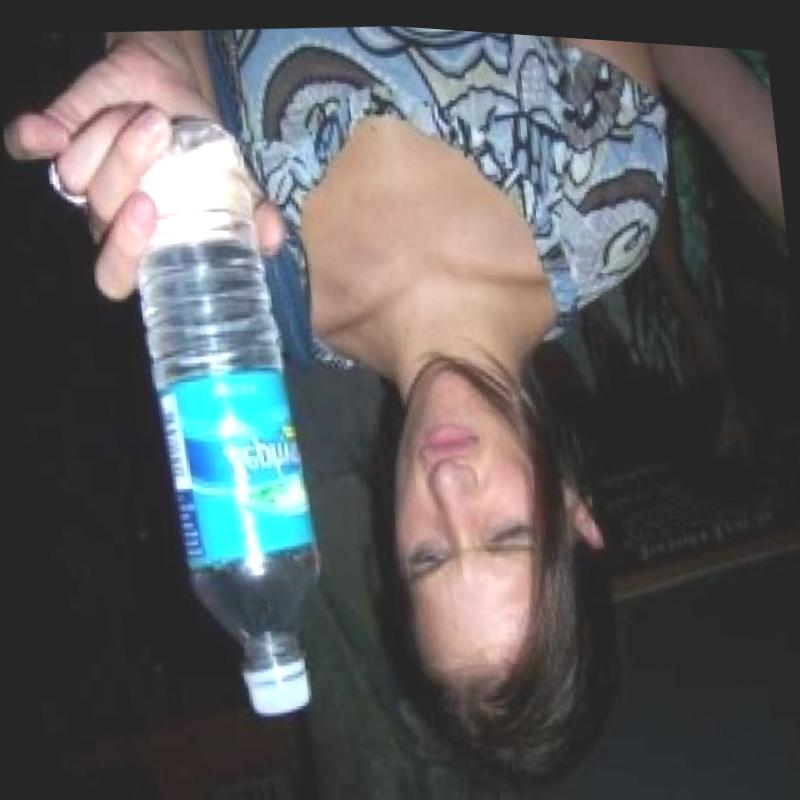botella: (129, 112, 332, 720)
